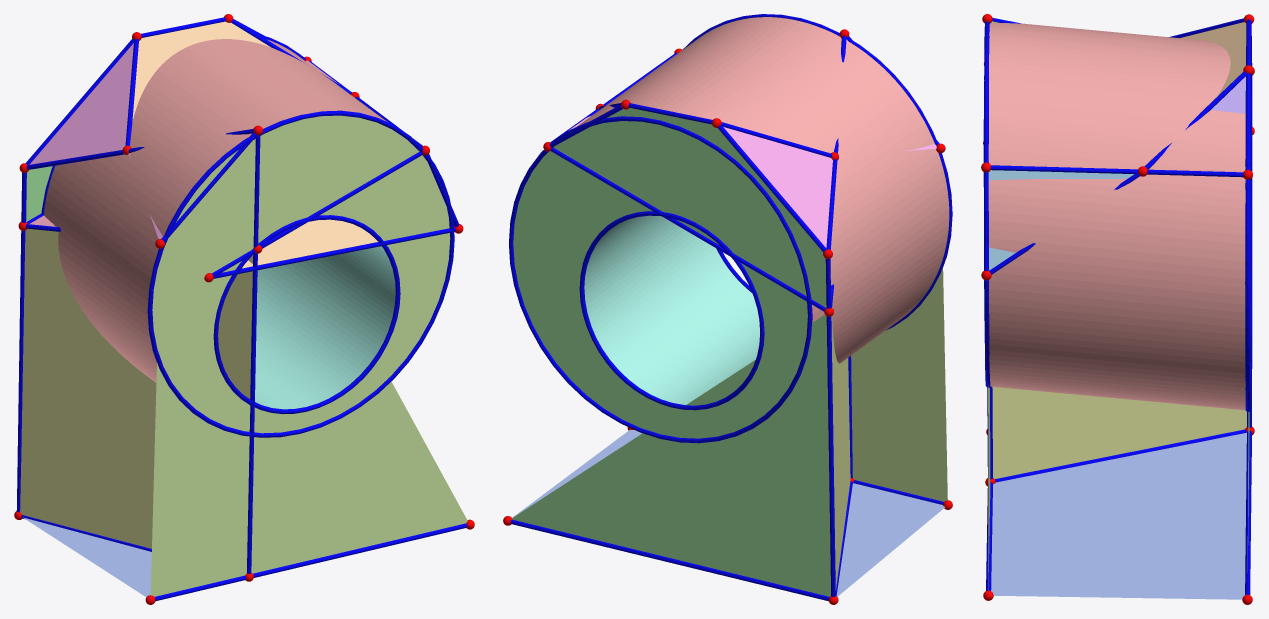
The model's file is pipeline_results_structured.obj.
3 renders of one model, left to right at view 1: azimuth 30°, elevation 25°; view 2: azimuth 150°, elevation 25°; view 3: azimuth 270°, elevation 25°, orthographic. The views are drawn at different scales.
Parts seen in each view (by area): view 1: face_00002, face_00000, face_00010, face_00004, face_00005, face_00003, face_00001, line_00007, line_00000, line_00019, line_00004, line_00005 (+4 smaller); view 2: face_00007, face_00000, face_00004, face_00002, face_00001, face_00003, face_00010, line_00019, line_00001, line_00018, line_00009, line_00010; view 3: face_00000, face_00001, face_00010, face_00005, face_00009, line_00017, line_00002, line_00001, face_00006, line_00000, line_00011, line_00019 (+3 smaller).
Boxes of the visible parts, x1,y1,x2,y2 form: face_00002: [150, 115, 467, 596]; face_00000: [44, 39, 386, 382]; face_00010: [20, 228, 253, 548]; face_00004: [255, 246, 395, 409]; face_00005: [132, 21, 378, 268]; face_00003: [29, 43, 251, 238]; face_00001: [23, 517, 151, 597]; line_00007: [247, 135, 260, 573]; line_00000: [154, 523, 467, 601]; line_00019: [16, 172, 26, 512]; line_00004: [213, 227, 455, 278]; line_00005: [212, 151, 422, 276]; face_00007: [511, 108, 830, 596]; face_00000: [577, 17, 949, 363]; face_00004: [584, 215, 759, 404]; face_00002: [851, 267, 947, 501]; face_00001: [512, 429, 944, 596]; face_00003: [723, 39, 936, 247]; face_00010: [831, 316, 850, 590]; line_00019: [825, 258, 835, 596]; line_00001: [510, 519, 829, 601]; line_00018: [550, 147, 825, 311]; line_00009: [718, 125, 826, 252]; line_00010: [826, 36, 846, 249]; face_00000: [988, 23, 1245, 410]; face_00001: [991, 432, 1246, 599]; face_00010: [991, 21, 1246, 478]; face_00005: [1180, 22, 1246, 97]; face_00009: [988, 170, 1133, 270]; line_00017: [990, 165, 1243, 177]; line_00002: [995, 429, 1246, 482]; line_00001: [1245, 431, 1251, 594]; face_00006: [1211, 76, 1245, 113]; line_00000: [986, 482, 992, 590]; line_00011: [1144, 71, 1246, 169]; line_00019: [1247, 76, 1252, 427].
Bounding box in the file's own units: 0.7851 × 1.03 × 0.528.
